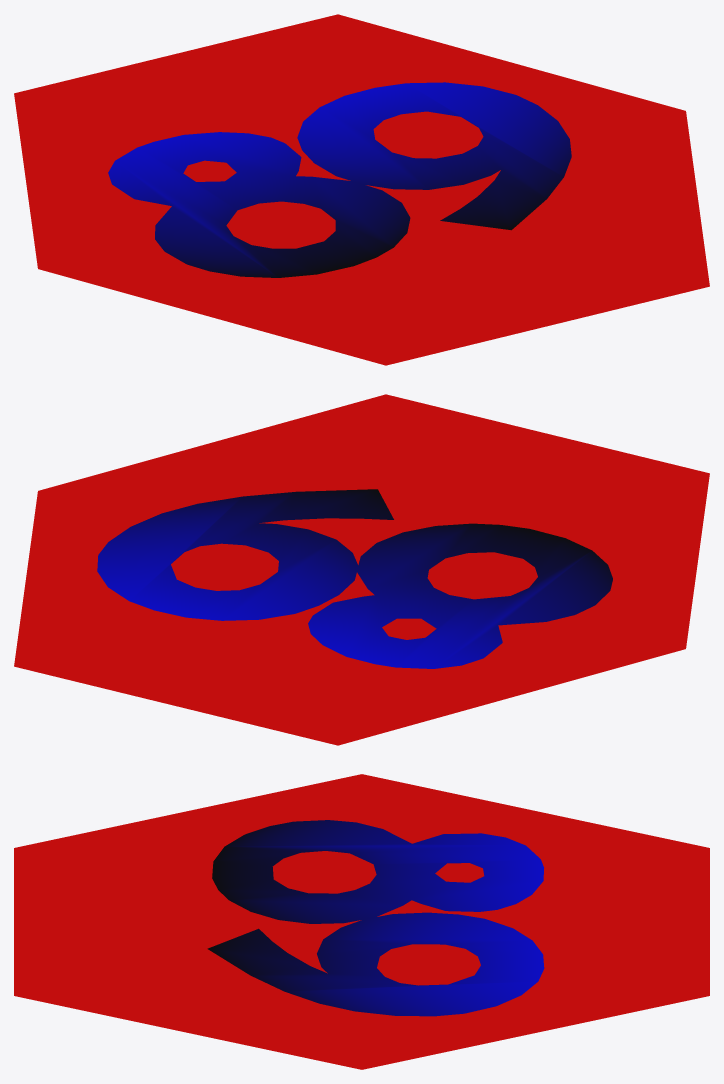
File: SM_Number_89.fbx
3 views of the same model, one above another, from view 1: azimuth 30°, elevation 25°; view 2: azimuth 150°, elevation 25°; view 3: azimuth 270°, elevation 25° (orthographic). The views are drawn at different scales.
Visible parts, largest first — view 1: FBX_OUT; view 2: FBX_OUT; view 3: FBX_OUT.
Boxes of the visible parts, left/top/right/bottom form: FBX_OUT: left=14, top=14, right=709, bottom=365; FBX_OUT: left=14, top=394, right=709, bottom=745; FBX_OUT: left=14, top=774, right=709, bottom=1069.
Bounding box in the file's own units: 50 × 0.2917 × 49.71.
